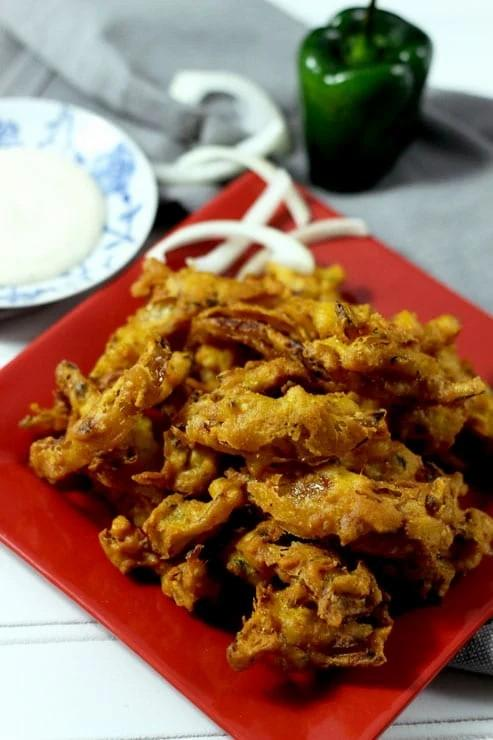OnionPakoda: (19, 260, 493, 679)
